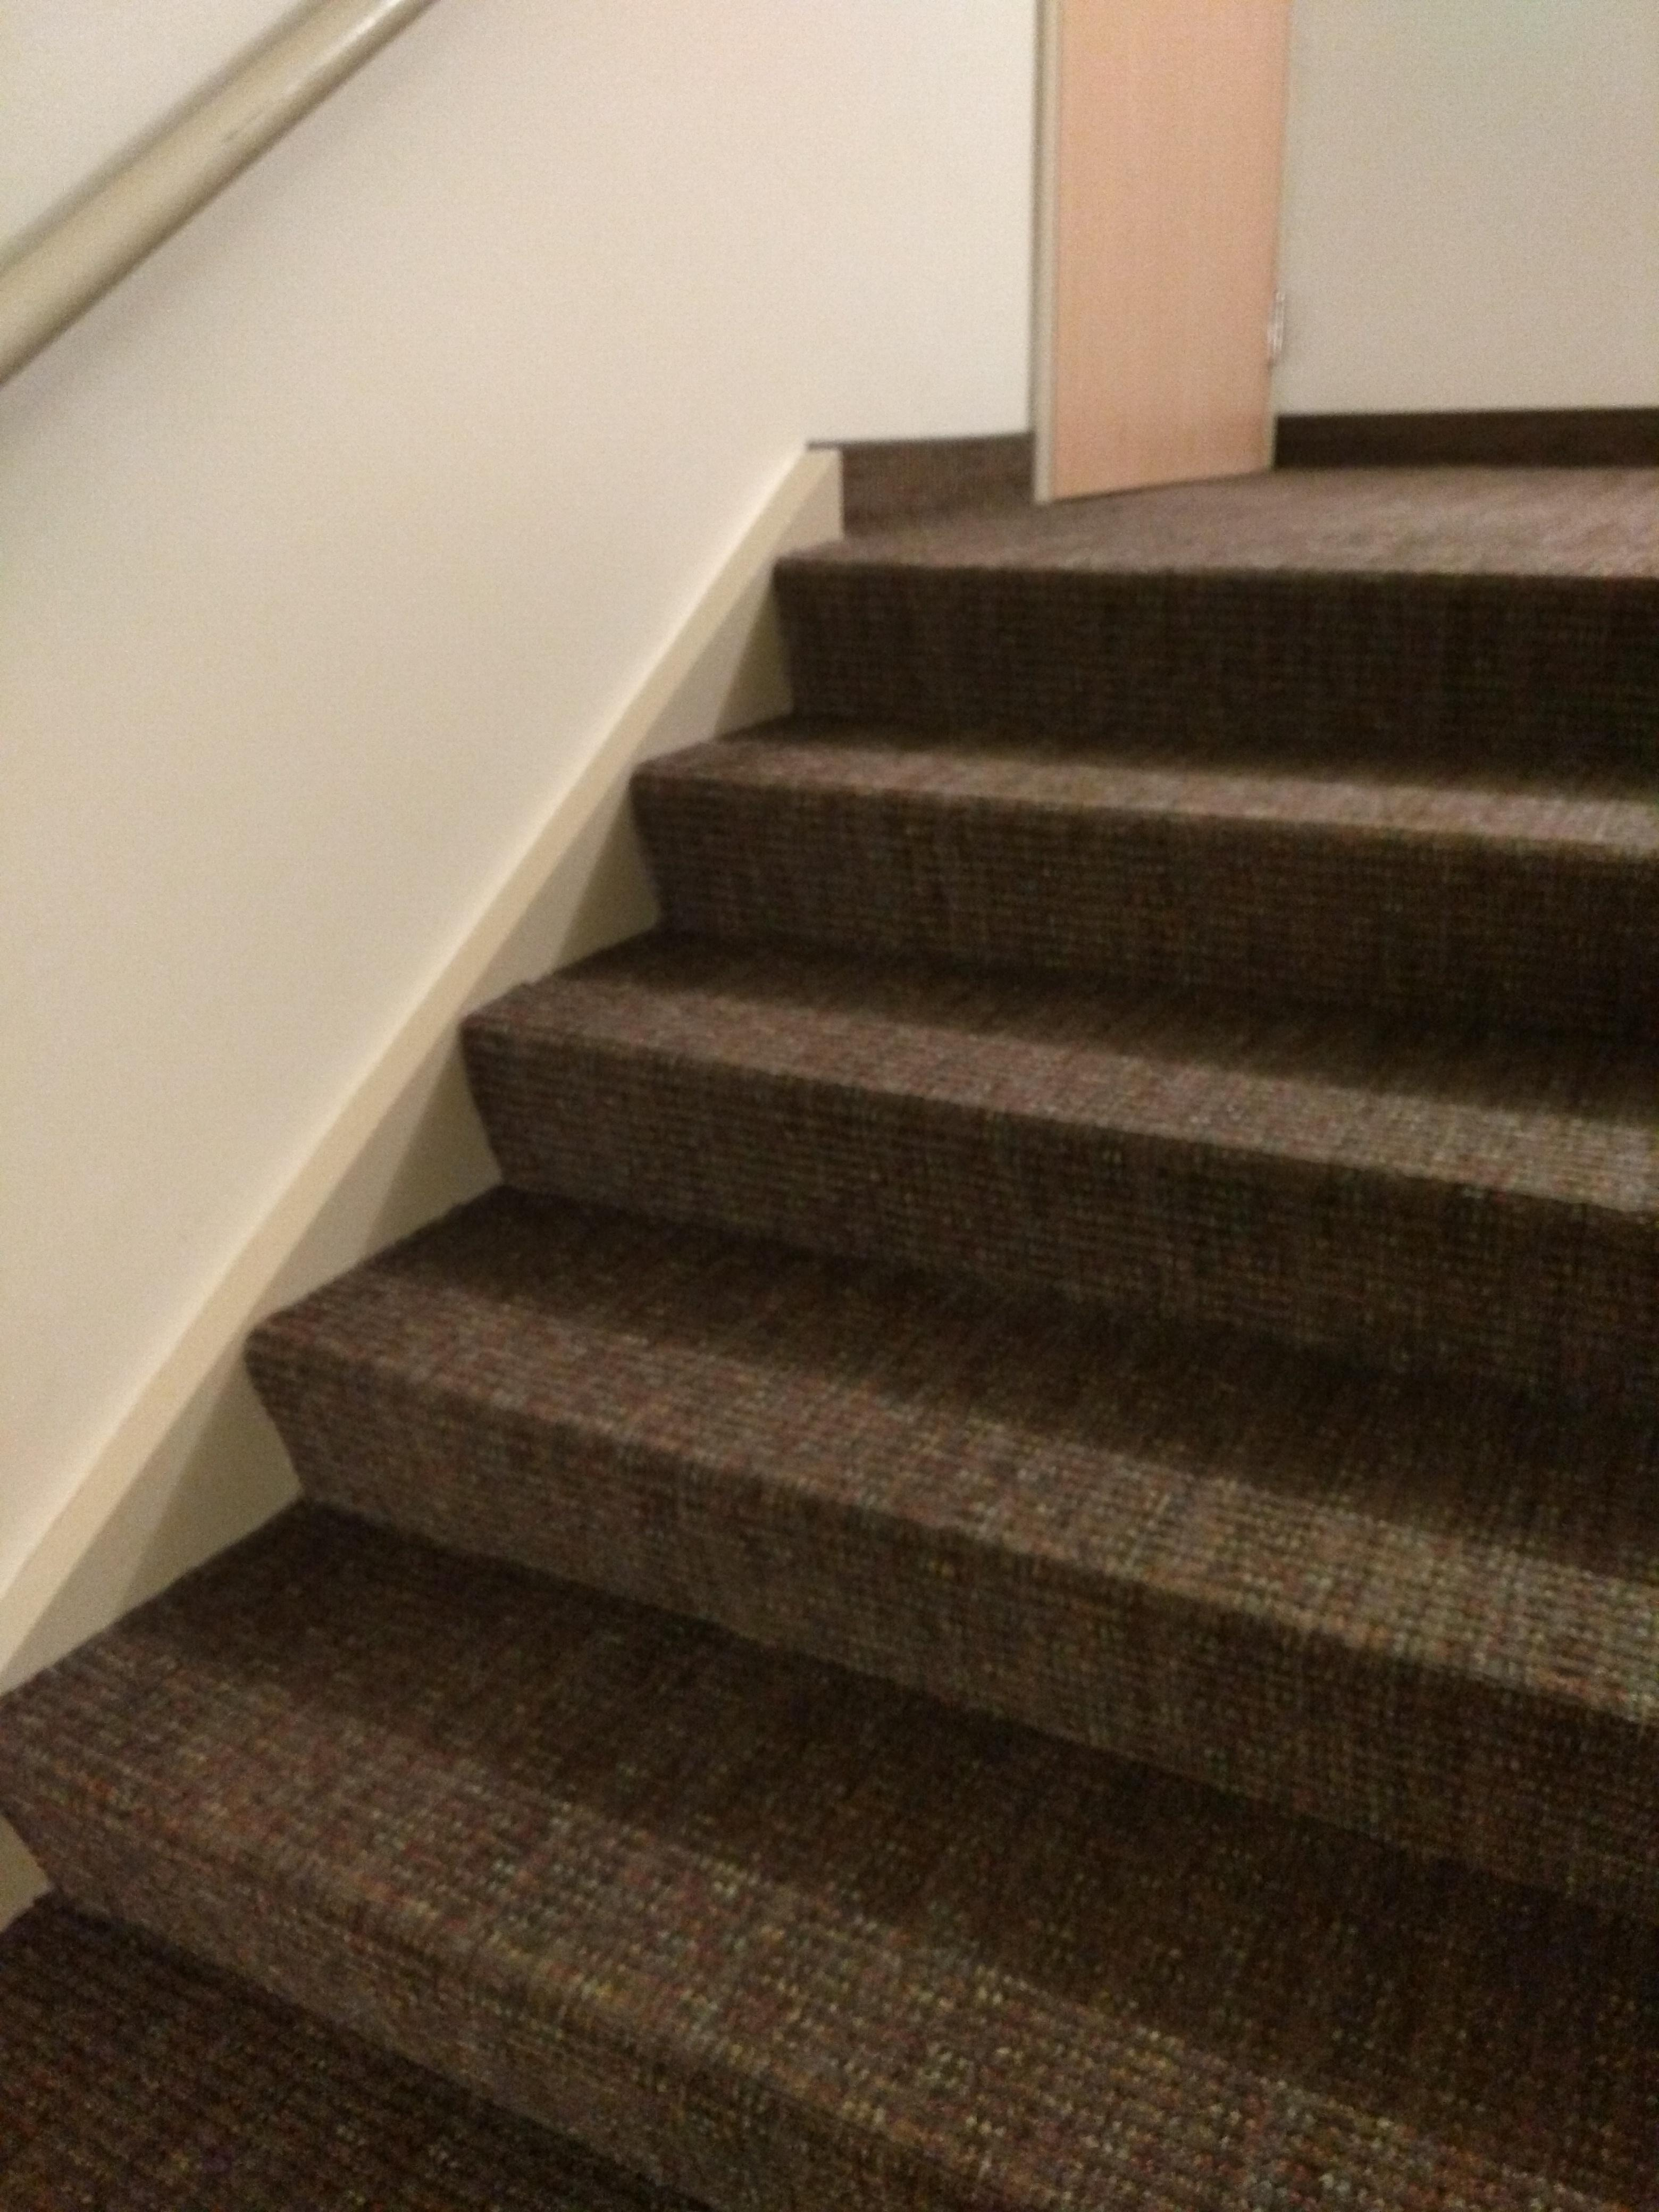stairs_up: (19, 493, 1659, 2205)
